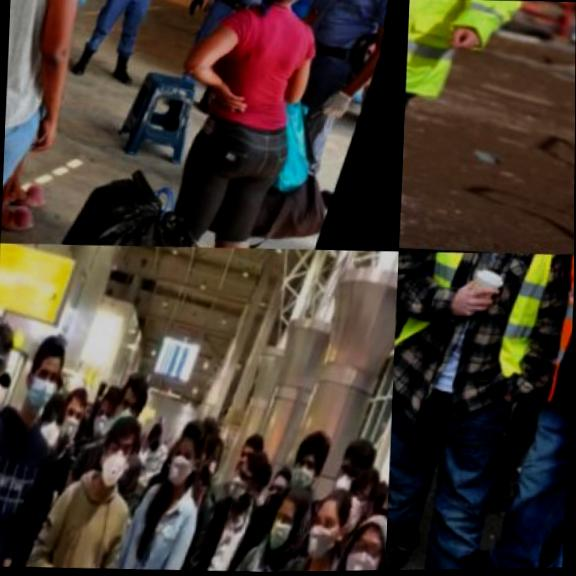safety_vest: (394, 247, 574, 387), (406, 0, 569, 124), (395, 249, 491, 353), (220, 0, 292, 6)
